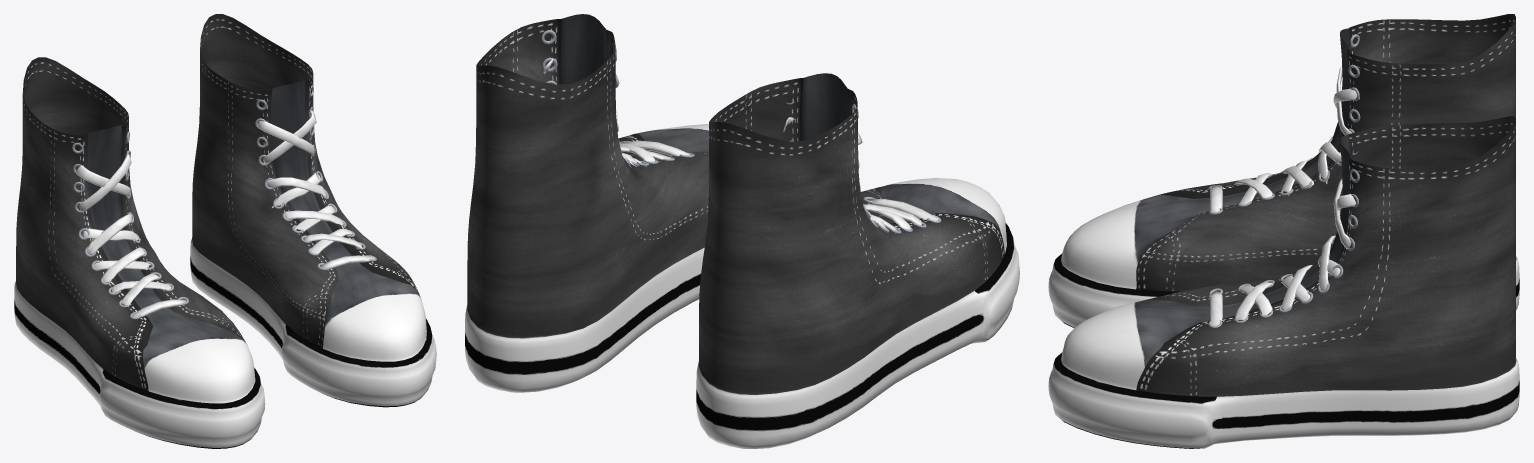
The model's file is sneaker.glb.
The picture shows the model from 3 angles, left to right: view 1: azimuth 30°, elevation 25°; view 2: azimuth 150°, elevation 25°; view 3: azimuth 270°, elevation 25°; orthographic projection. The views are drawn at different scales.
Visible parts, largest first — view 1: shoes; view 2: shoes; view 3: shoes.
Boxes of the visible parts, x1,y1,x2,y2 form: shoes: (14, 14, 436, 448); shoes: (465, 14, 1019, 448); shoes: (1048, 14, 1519, 448).
Size of the model in its own units: 0.2905 by 0.2185 by 0.3167.
Materials: 1 (1 with a texture image).
